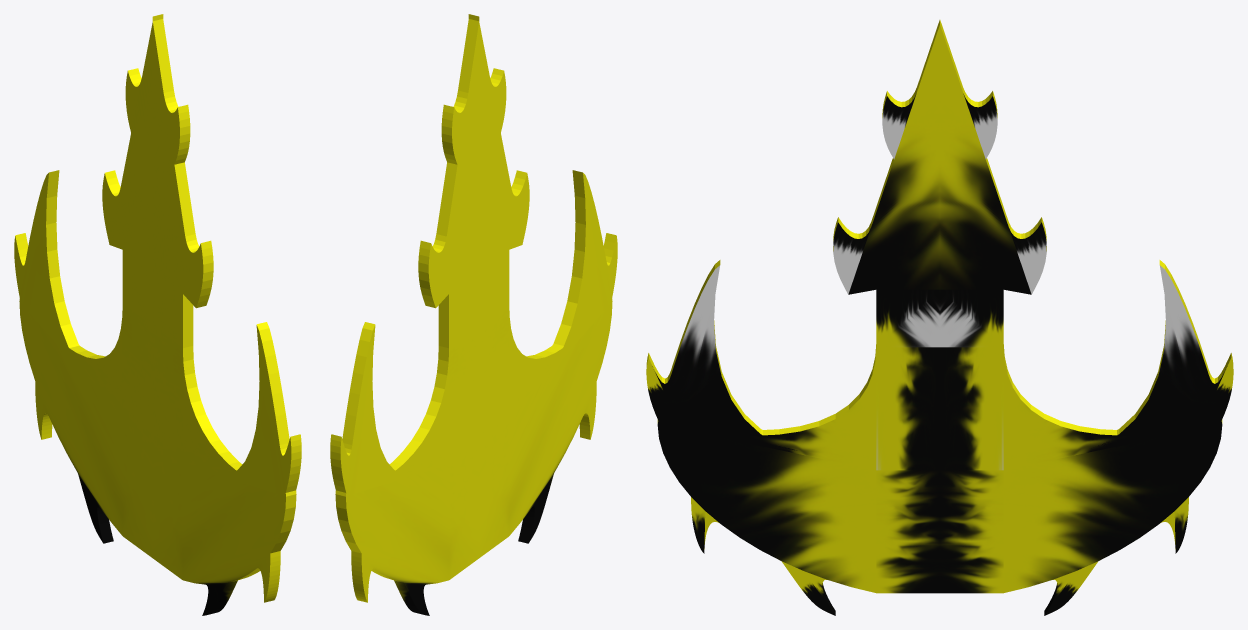
File: Space_Ship_Yellow.fbx
The picture shows the model from 3 angles, left to right: view 1: azimuth 30°, elevation 25°; view 2: azimuth 150°, elevation 25°; view 3: azimuth 270°, elevation 25°; orthographic projection. The views are drawn at different scales.
Visible parts, largest first — view 1: Cube; view 2: Cube; view 3: Cube.
Boxes of the visible parts, x1,y1,x2,y2 form: Cube: [14, 14, 301, 615]; Cube: [330, 14, 617, 615]; Cube: [646, 20, 1233, 615].
Bounding box in the file's own units: 0.02 × 1.03 × 0.9218.
Materials: 1 (1 with a texture image).
